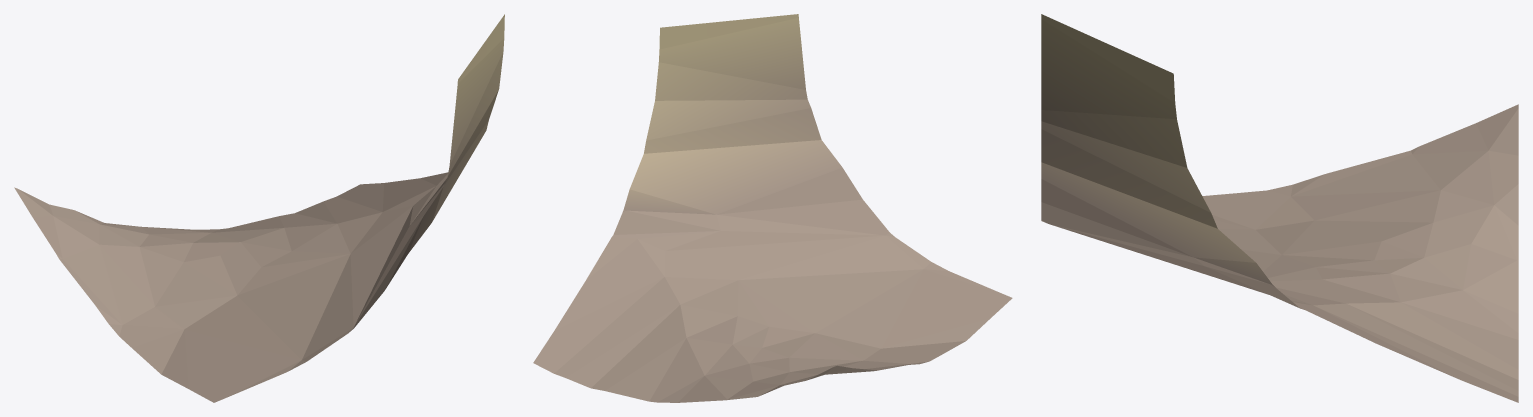
Rendered from bisect-5-2-2.gltf.
The picture shows the model from 3 angles, left to right: view 1: azimuth 30°, elevation 25°; view 2: azimuth 150°, elevation 25°; view 3: azimuth 270°, elevation 25°; orthographic projection. The views are drawn at different scales.
Visible parts, largest first — view 1: bisect-5-2-2; view 2: bisect-5-2-2; view 3: bisect-5-2-2.
Boxes of the visible parts, left/top/right/bottom form: bisect-5-2-2: left=14, top=14, right=504, bottom=402; bisect-5-2-2: left=533, top=14, right=1012, bottom=402; bisect-5-2-2: left=1041, top=14, right=1518, bottom=402.
Size of the model in its own units: 20 by 15.94 by 20.
